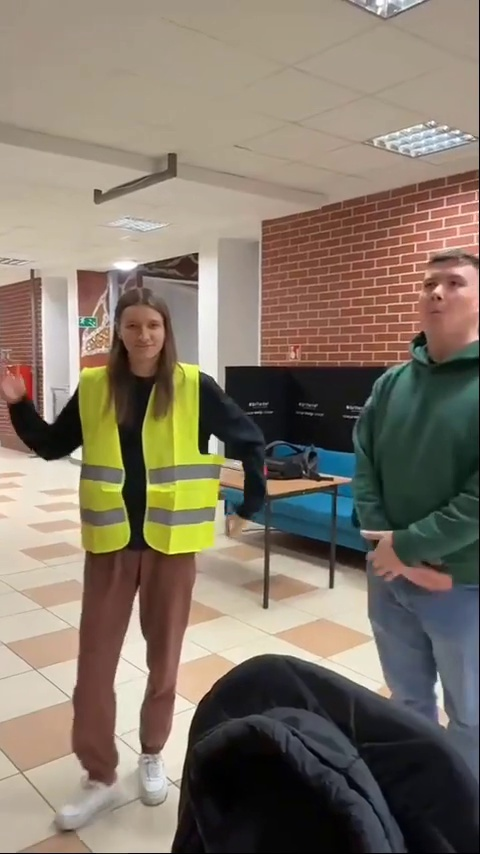no vest: (356, 260, 480, 725)
vest: (37, 288, 281, 823)
